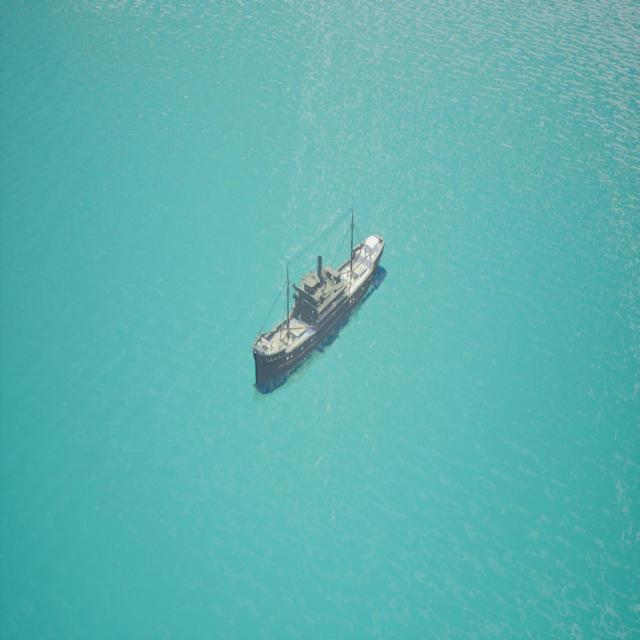fishing ship: (252, 235, 389, 395)
